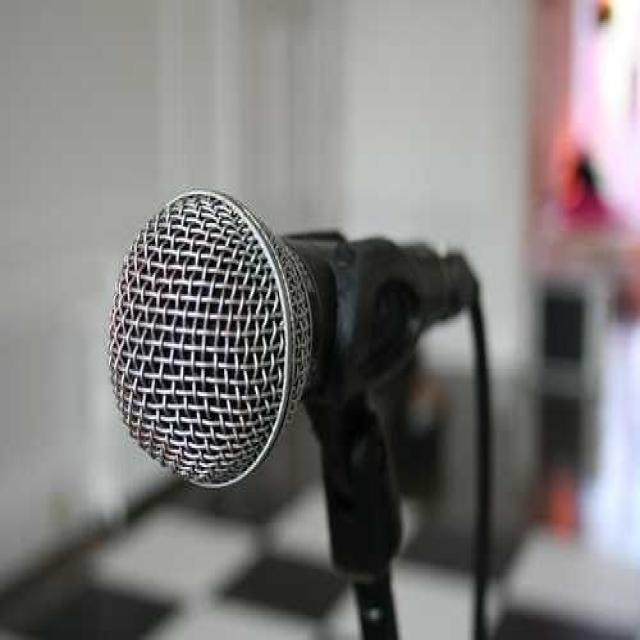microphone: (102, 187, 469, 502)
